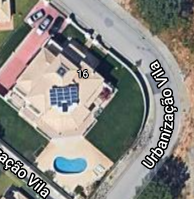pool: (53, 158, 86, 172)
